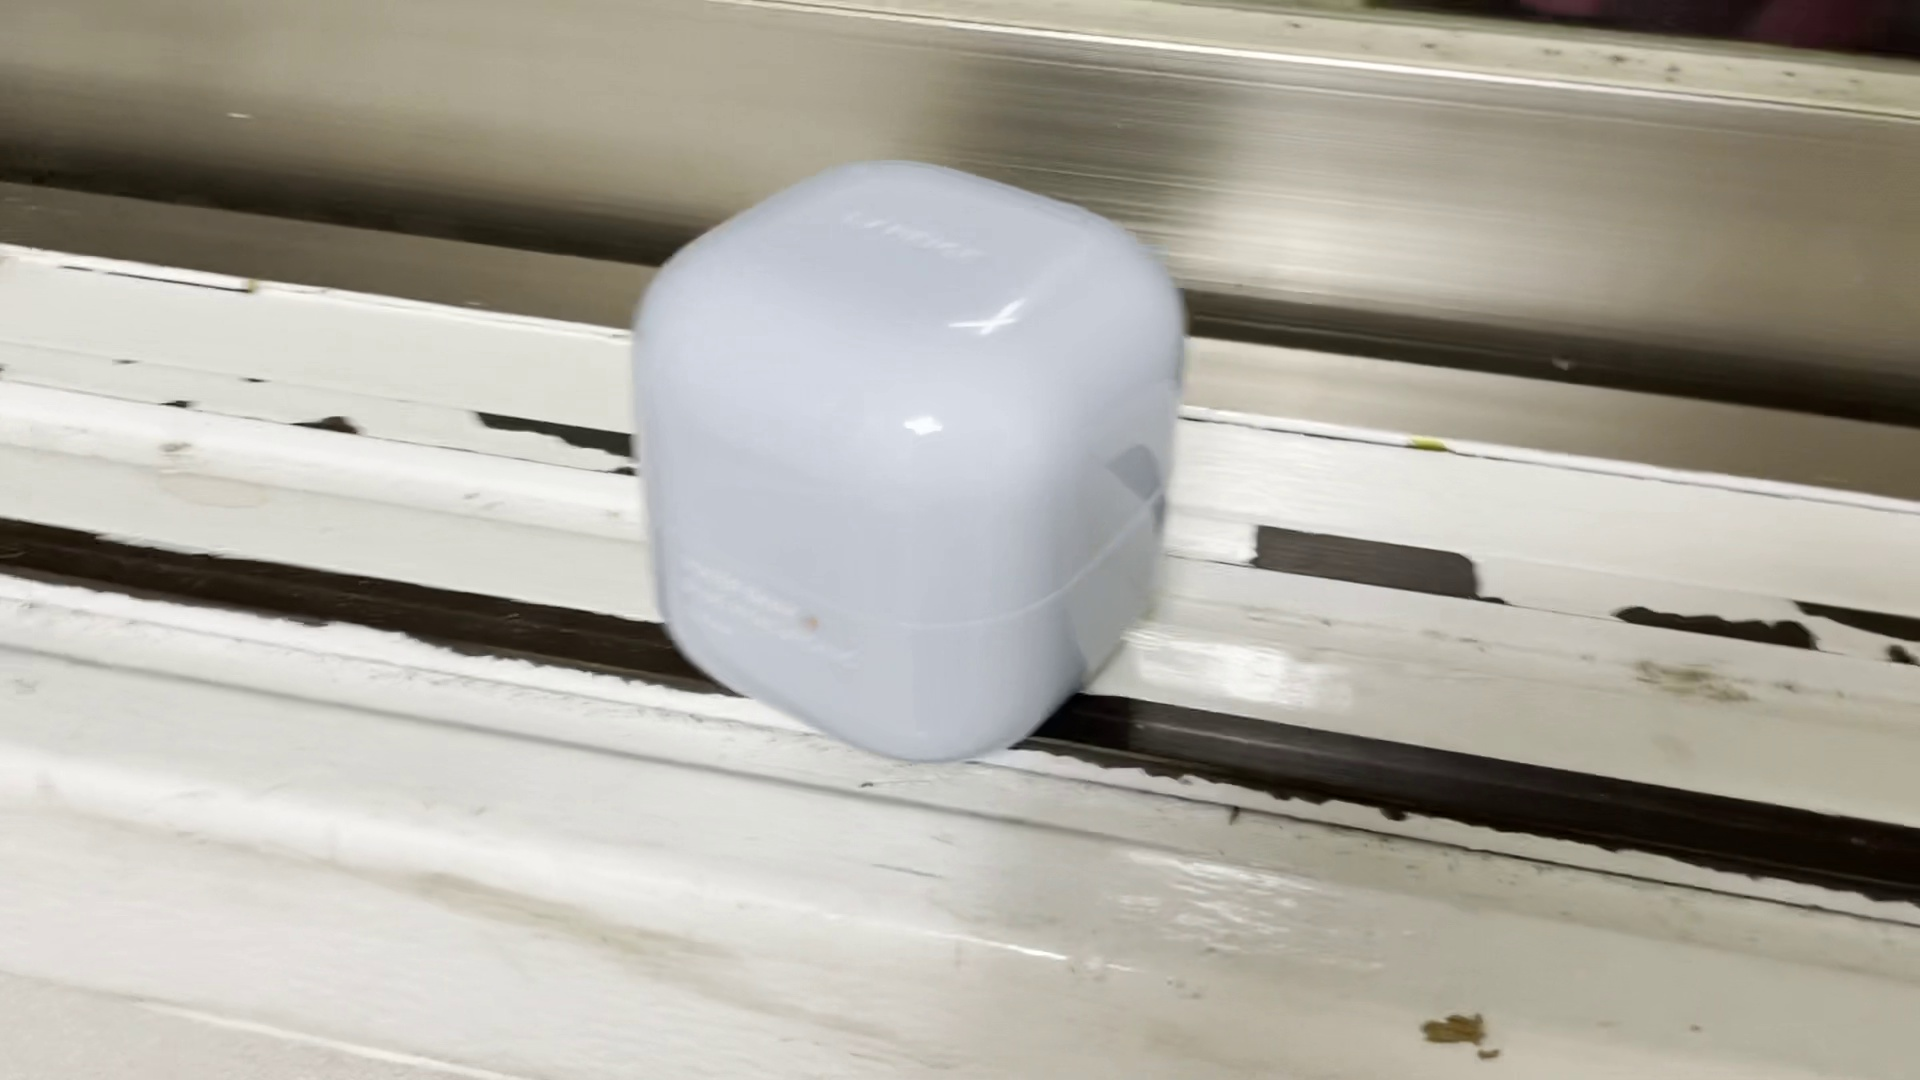cream: (630, 156, 1182, 764)
